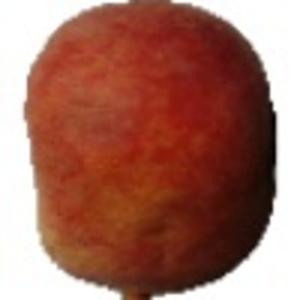pêssego: (21, 1, 278, 300)
